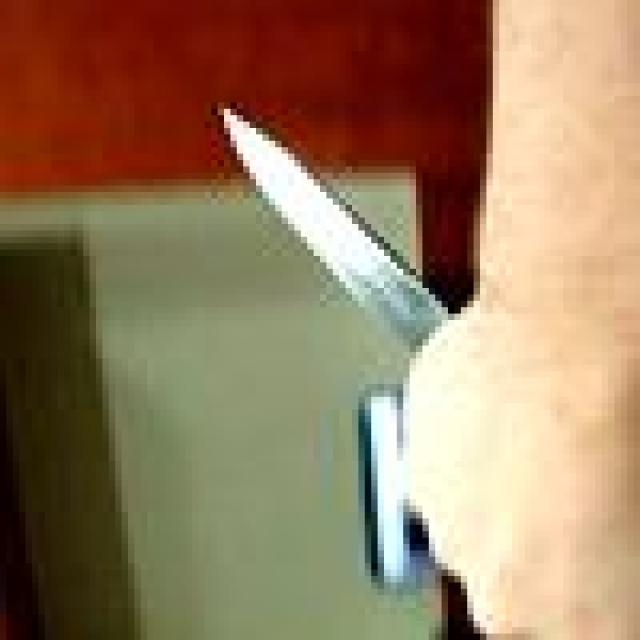knife: (219, 109, 433, 343)
